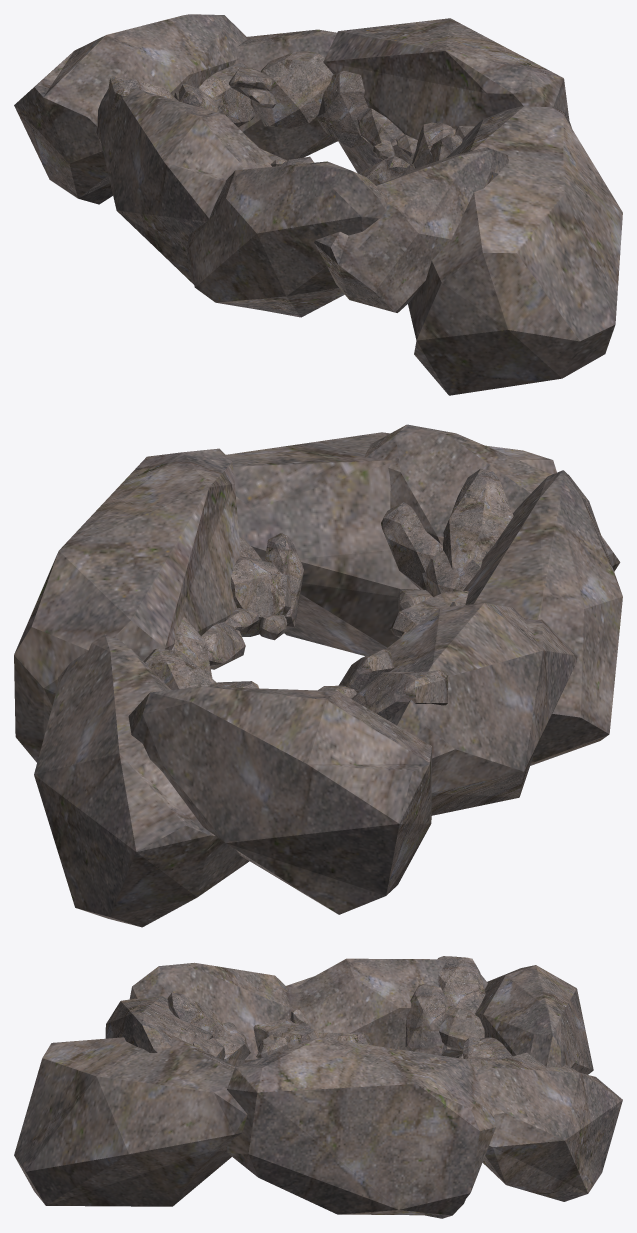
File: Rocks.fbx
3 renders of one model, top to bottom at view 1: azimuth 30°, elevation 25°; view 2: azimuth 150°, elevation 25°; view 3: azimuth 270°, elevation 25°, orthographic. The views are drawn at different scales.
Parts seen in each view (by area): view 1: Rock_5__1_, Rock_5__5_, Rock_6__1_, Rock_5__7_, Rock_5__8_, Rock_5__3_, Rock_5__6_, Rock_2__1_, Rock_4__2_, Rock_6__7_, Rock_6__6_, Rock_4 (+5 smaller); view 2: Rock_5__7_, Rock_6__1_, Rock_5__6_, Rock_5__1_, Rock_5__8_, Rock_5__5_, Rock_5__3_, Rock_5, Rock_6__5_, Rock_4, Rock_5__2_, Rock_2__1_ (+6 smaller); view 3: Rock_6__1_, Rock_5__1_, Rock_5__6_, Rock_5__8_, Rock_5__7_, Rock_5__5_, Rock_5__3_, Rock_6__4_, Rock_6__5_, Rock_2__2_, Rock_5, Rock_6__2_ (+5 smaller).
Boxes of the visible parts, box(x1,y1,x2,y2) form: Rock_5__1_: box(408, 105, 622, 395); Rock_5__5_: box(186, 161, 388, 317); Rock_6__1_: box(323, 18, 569, 173); Rock_5__7_: box(14, 14, 247, 204); Rock_5__8_: box(96, 88, 273, 284); Rock_5__3_: box(314, 147, 508, 312); Rock_5__6_: box(234, 29, 337, 160); Rock_2__1_: box(250, 50, 333, 128); Rock_4__2_: box(315, 70, 370, 147); Rock_6__7_: box(198, 62, 254, 127); Rock_6__6_: box(357, 108, 404, 156); Rock_4: box(412, 122, 455, 168); Rock_5__7_: box(128, 686, 431, 914); Rock_6__1_: box(14, 448, 240, 762); Rock_5__6_: box(34, 634, 249, 927); Rock_5__1_: box(226, 432, 556, 656); Rock_5__8_: box(385, 603, 577, 815); Rock_5__5_: box(463, 470, 622, 765); Rock_5__3_: box(364, 424, 620, 571); Rock_5: box(442, 468, 513, 569); Rock_6__5_: box(351, 670, 448, 719); Rock_4: box(231, 556, 291, 636); Rock_5__2_: box(381, 502, 442, 590); Rock_2__1_: box(143, 648, 216, 689); Rock_6__1_: box(227, 1037, 495, 1218); Rock_5__1_: box(14, 1035, 247, 1206); Rock_5__6_: box(475, 1052, 622, 1201); Rock_5__8_: box(285, 958, 487, 1050); Rock_5__7_: box(475, 965, 593, 1074); Rock_5__5_: box(129, 962, 294, 1062); Rock_5__3_: box(105, 996, 213, 1052); Rock_6__4_: box(405, 984, 448, 1055); Rock_6__5_: box(437, 956, 485, 1057); Rock_2__2_: box(439, 1008, 484, 1051); Rock_5: box(167, 992, 231, 1039); Rock_6__2_: box(253, 1019, 320, 1050).
Size of the model in its own units: 21285 by 11885 by 33960.
6 materials, 6 textured.
